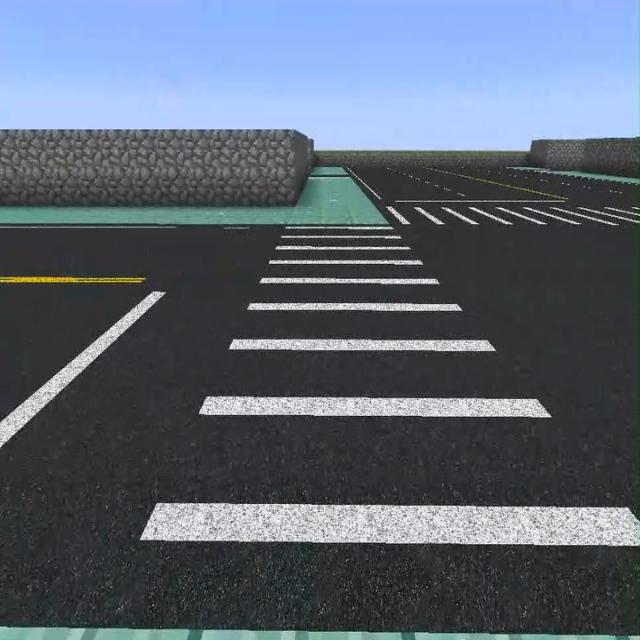8: (97, 225, 639, 628), (381, 206, 639, 224)
crosswalk: (0, 227, 281, 621), (397, 225, 639, 513), (347, 167, 639, 204)
road: (0, 176, 389, 222), (1, 628, 639, 639), (508, 166, 639, 183), (309, 166, 349, 174)
